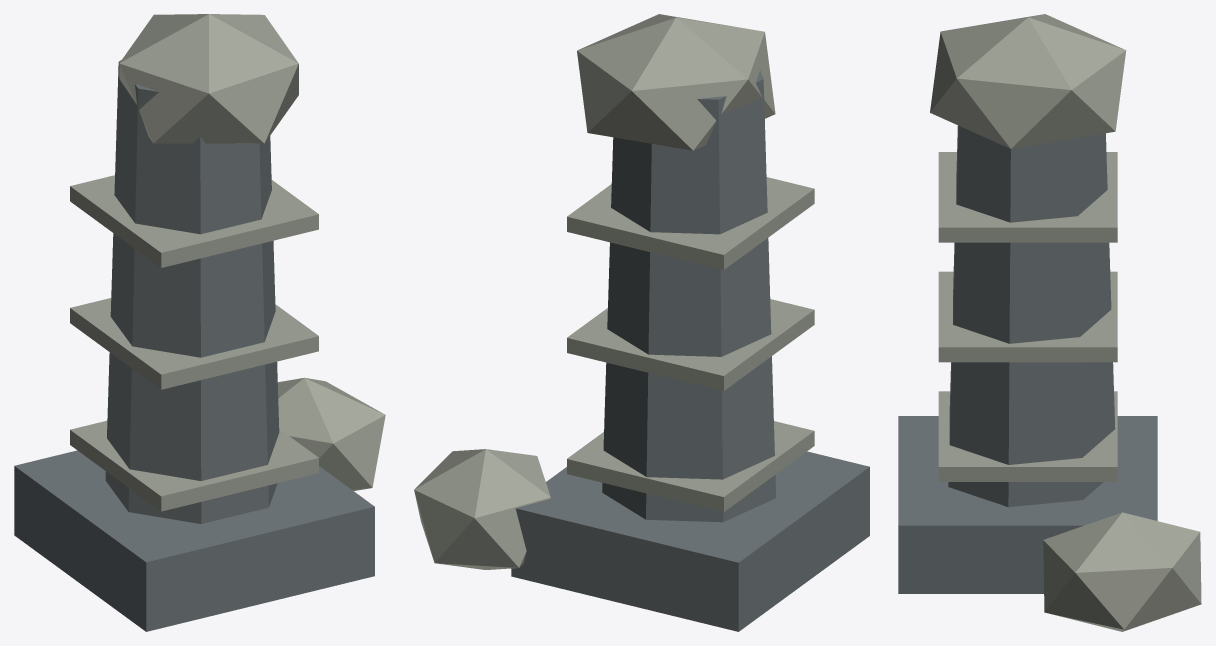
Rendered from BrokenPillar_A.fbx.
3 views of the same model, side by side, from view 1: azimuth 30°, elevation 25°; view 2: azimuth 150°, elevation 25°; view 3: azimuth 270°, elevation 25° (orthographic).
Visible parts, largest first — view 1: BrokenPillar_A; view 2: BrokenPillar_A; view 3: BrokenPillar_A.
Part boxes in pixels (x1,y1,x2,y2): BrokenPillar_A: [14, 14, 385, 631]; BrokenPillar_A: [414, 14, 869, 631]; BrokenPillar_A: [898, 14, 1201, 631].
Size of the model in its own units: 0.8557 by 1.35 by 0.6794.
1 material, 1 textured.
